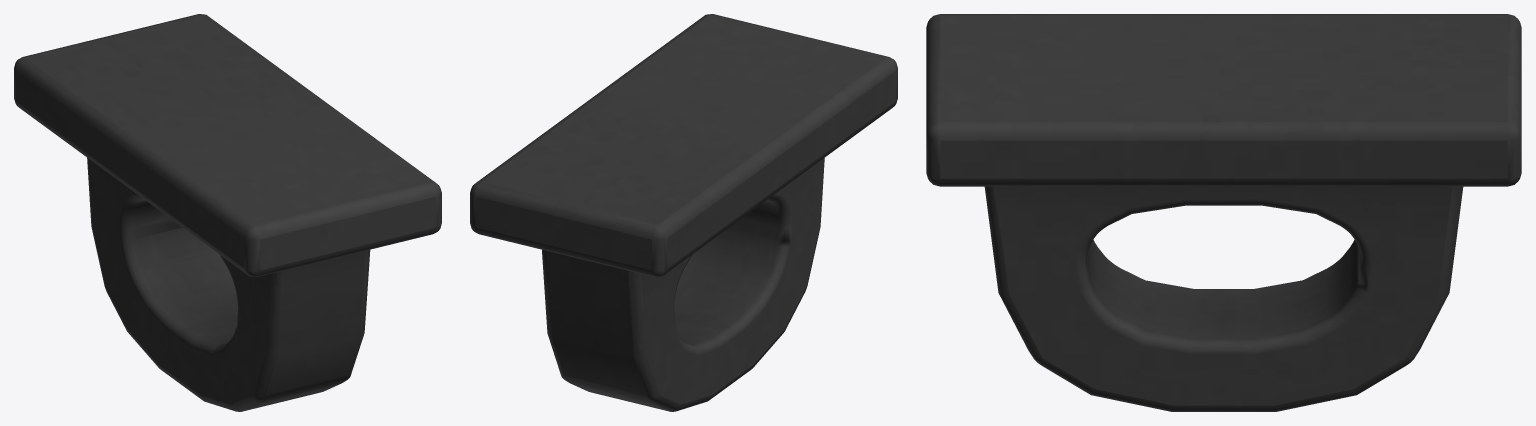
The model's file is mag-tab.glb.
3 views of the same model, side by side, from view 1: azimuth 30°, elevation 25°; view 2: azimuth 150°, elevation 25°; view 3: azimuth 270°, elevation 25° (orthographic). The views are drawn at different scales.
Visible parts, largest first — view 1: body; view 2: body; view 3: body.
Boxes of the visible parts, <box> form: body: <box>14,14,441,411</box>; body: <box>470,14,897,411</box>; body: <box>926,14,1521,411</box>.
Size of the model in its own units: 0.016 by 0.02 by 0.034.
Materials: 1 (1 with a texture image).
